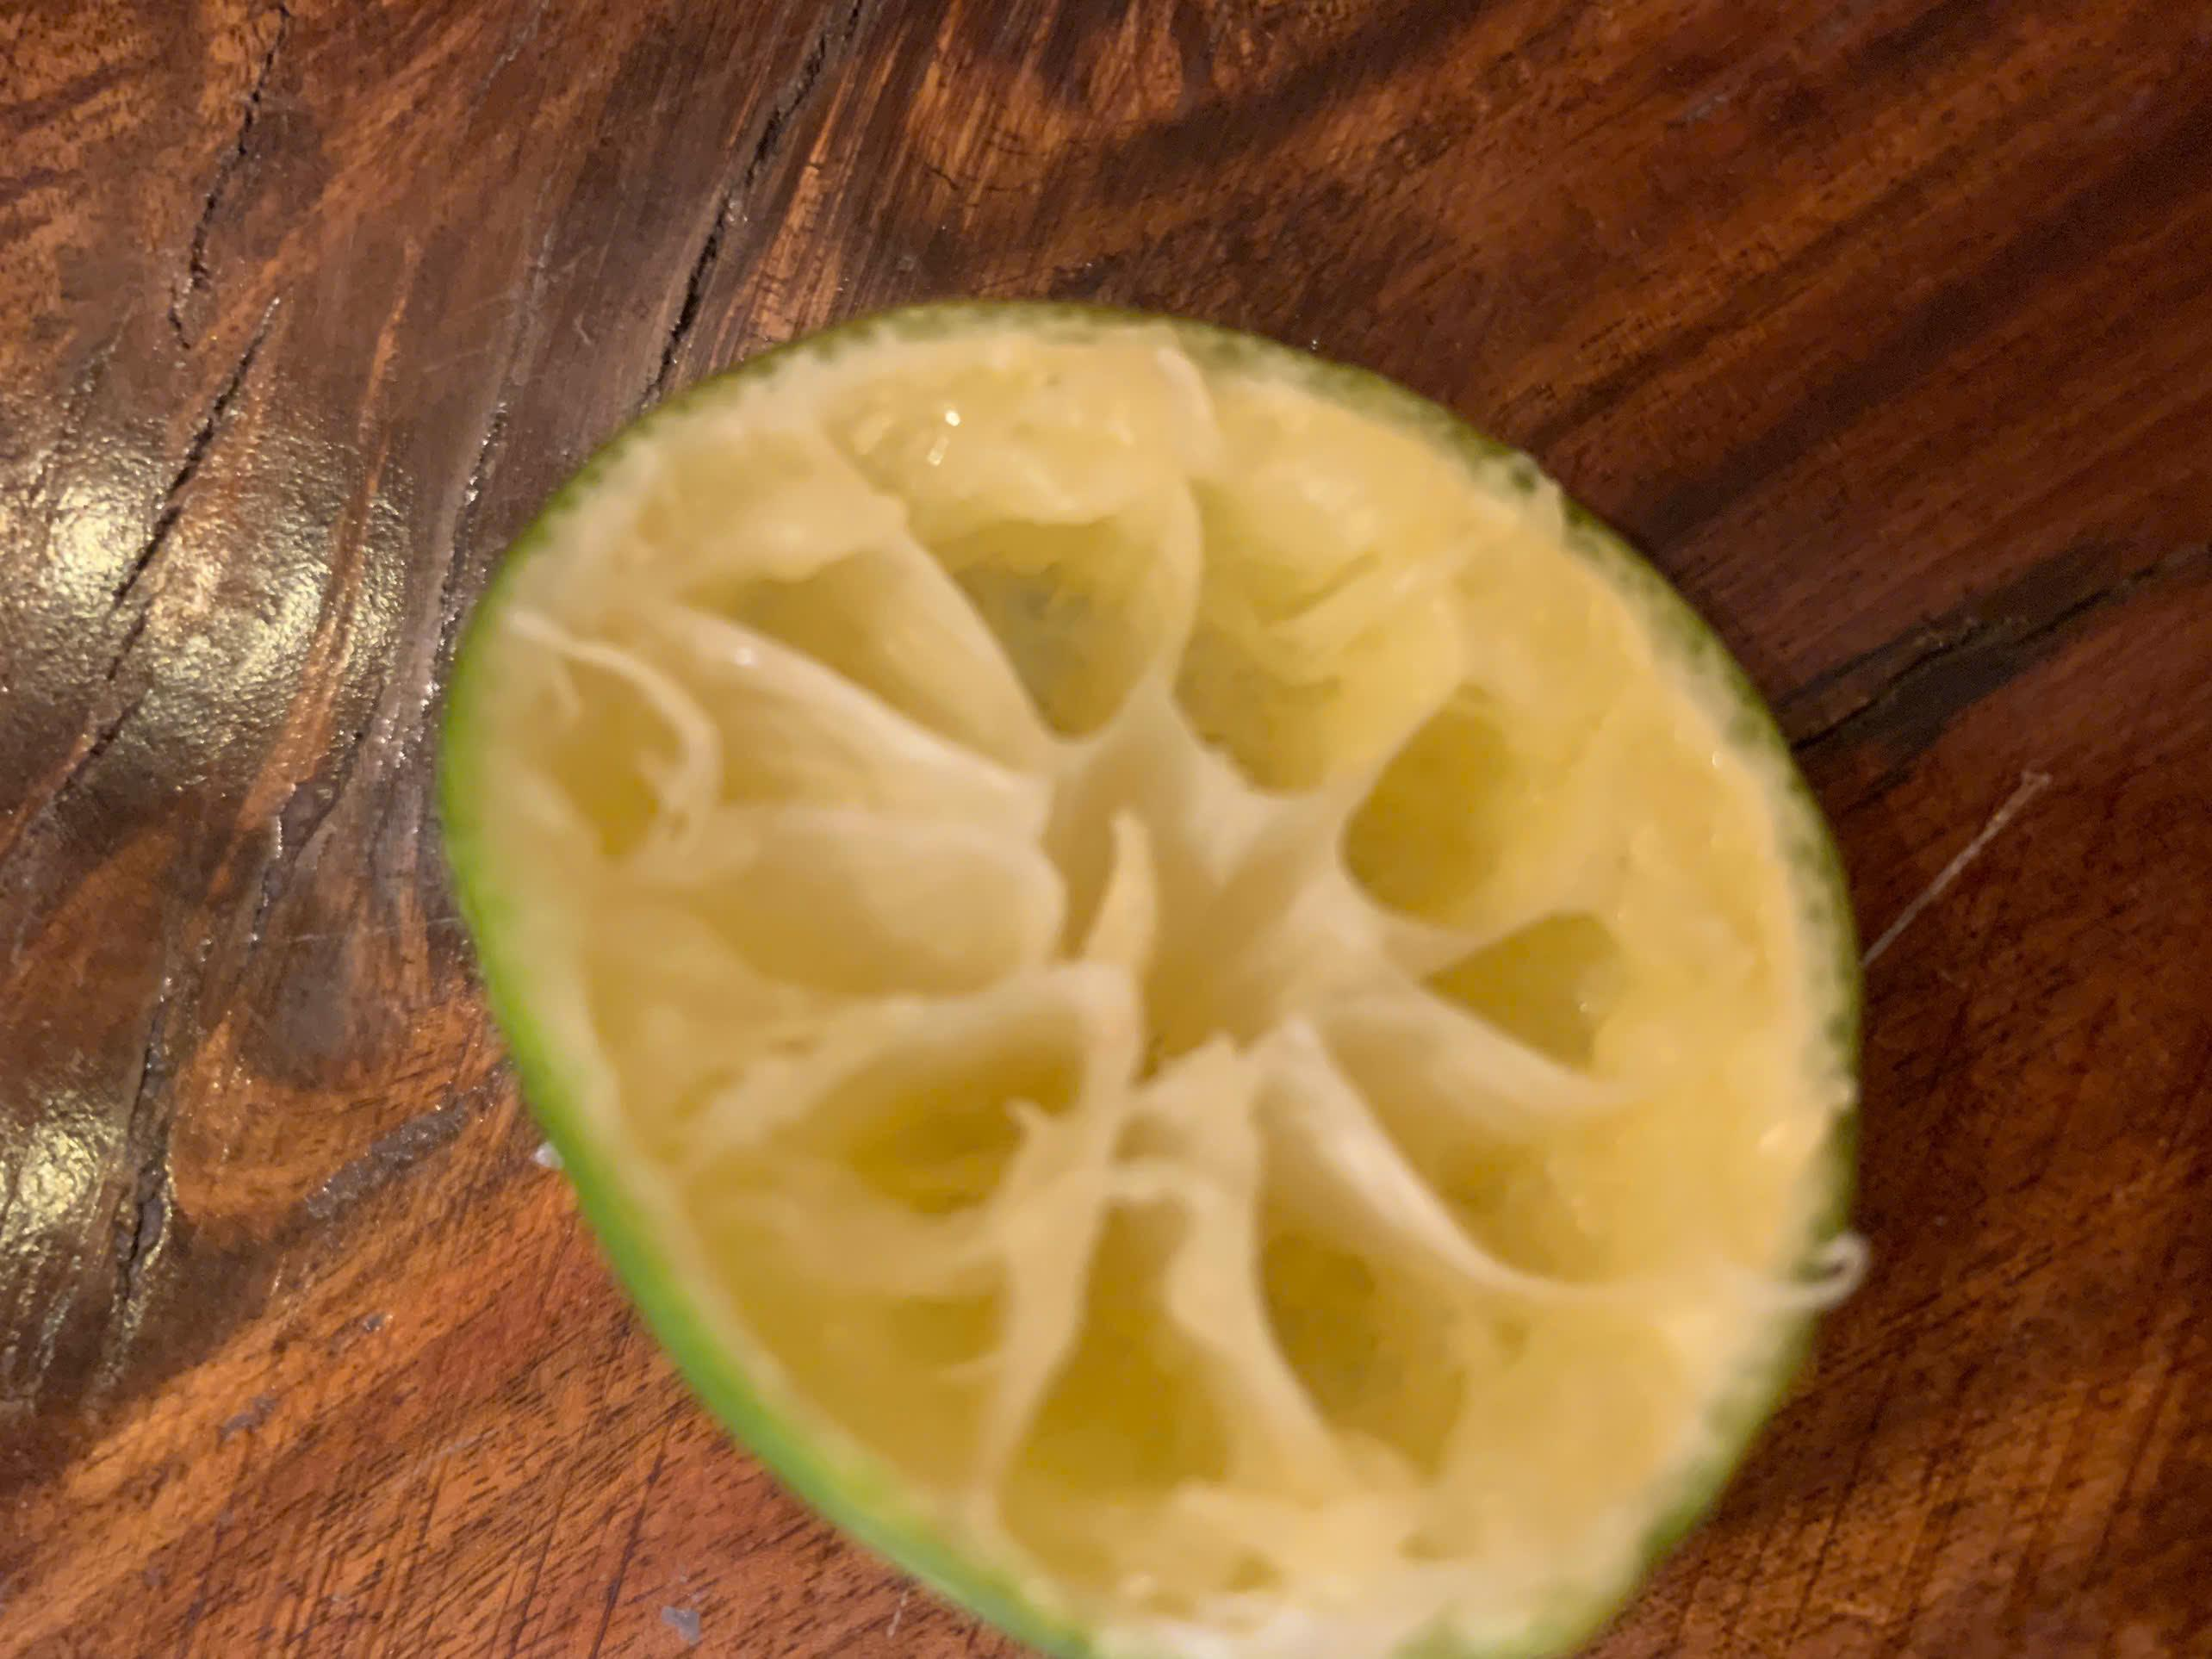Huu co: (439, 301, 1857, 1659)
